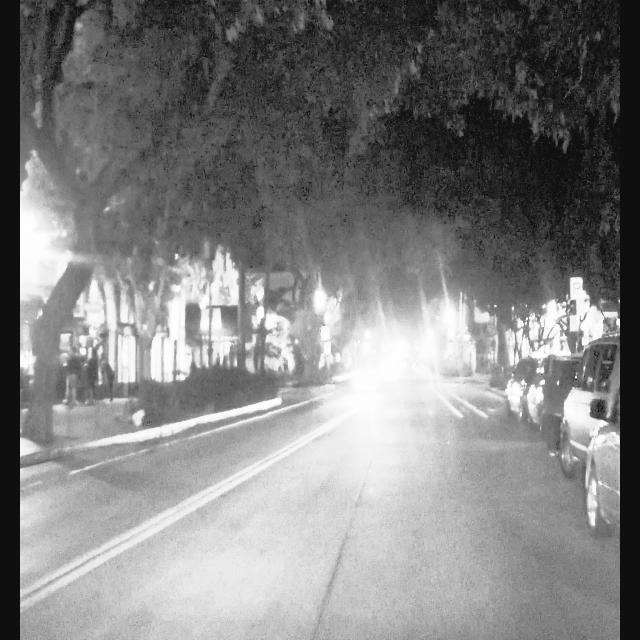Tree: (23, 0, 113, 464)
